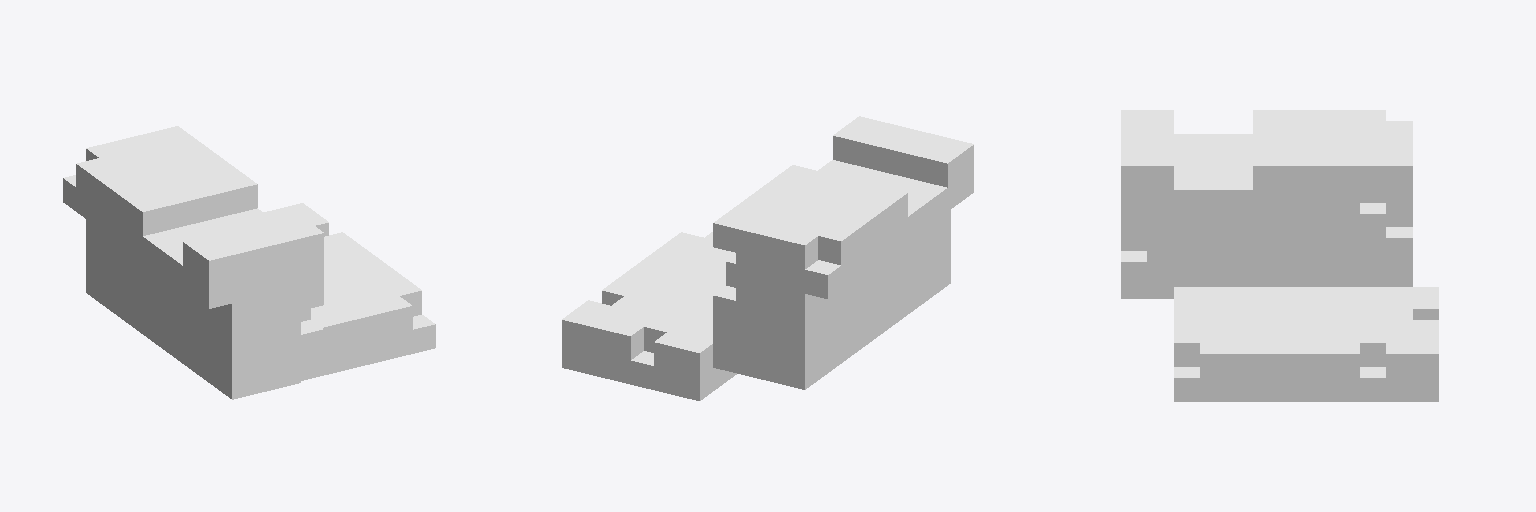
Rendered from SM-4-Tomb2.obj.
3 renders of one model, left to right at view 1: azimuth 30°, elevation 25°; view 2: azimuth 150°, elevation 25°; view 3: azimuth 270°, elevation 25°, orthographic.
Parts seen in each view (by area): view 1: Tomb2; view 2: Tomb2; view 3: Tomb2.
Boxes of the visible parts, <box> form: Tomb2: <box>63,126,435,399</box>; Tomb2: <box>562,116,973,400</box>; Tomb2: <box>1121,110,1438,401</box>.
Bounding box in the file's own units: 1.1 × 0.7 × 1.2.